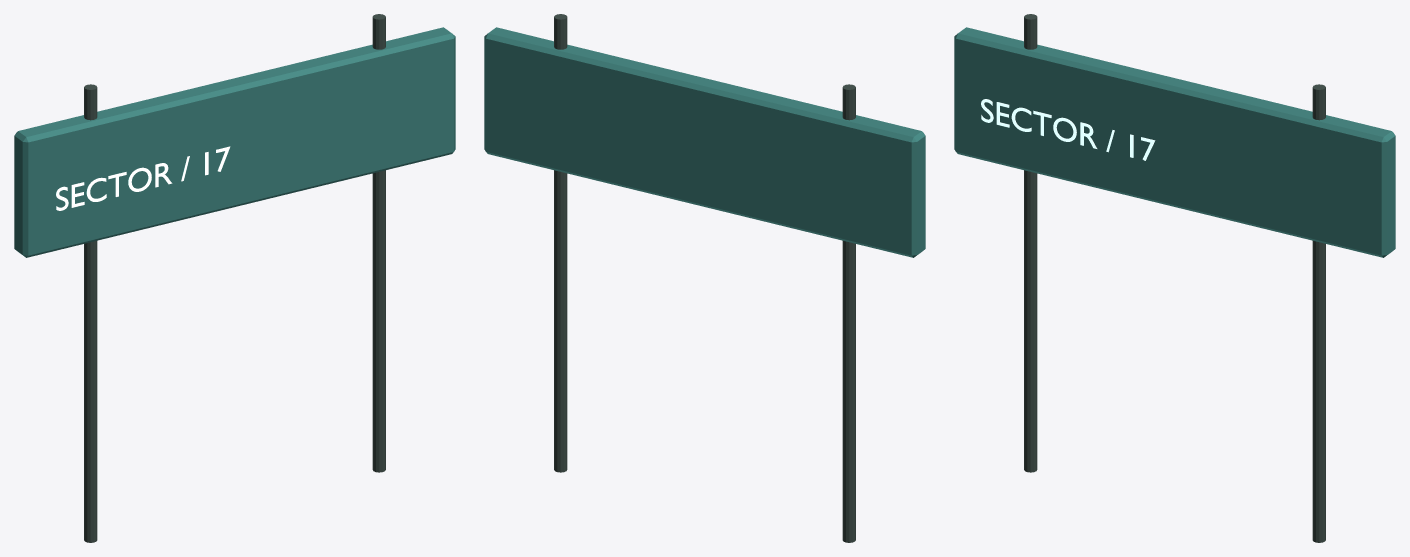
The model's file is district_sign.glb.
The picture shows the model from 3 angles, left to right: view 1: azimuth 30°, elevation 25°; view 2: azimuth 150°, elevation 25°; view 3: azimuth 330°, elevation 25°; orthographic projection.
Parts seen in each view (by area): view 1: district_sign.001; view 2: district_sign.001; view 3: district_sign.001.
Boxes of the visible parts, <box> form: district_sign.001: <box>14,14,455,542</box>; district_sign.001: <box>484,14,925,542</box>; district_sign.001: <box>954,14,1395,542</box>.
Bounding box in the file's own units: 3 × 3 × 0.167.
